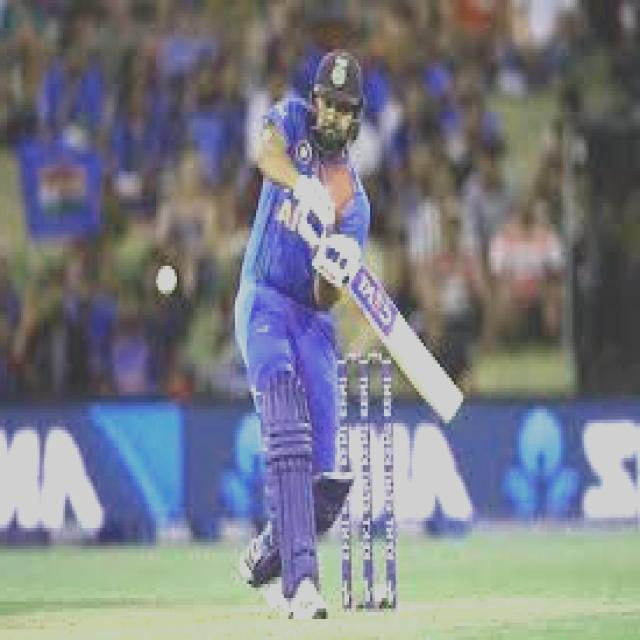toe: (442, 396, 470, 430)
